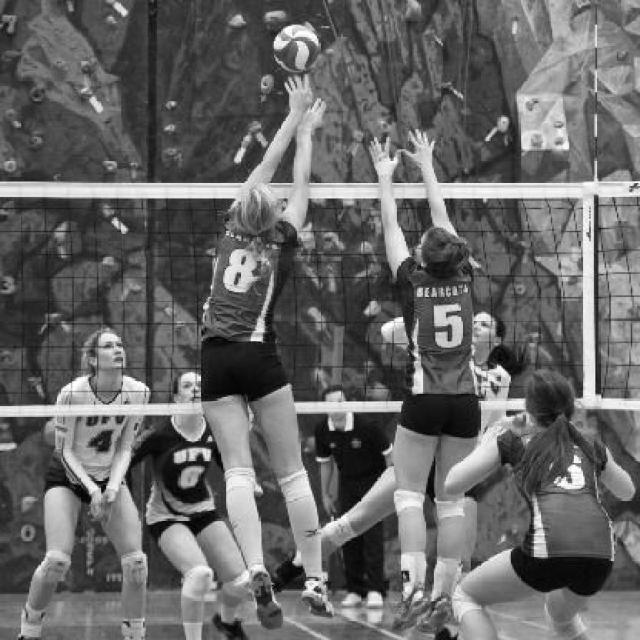volleyball: (274, 26, 321, 74)
